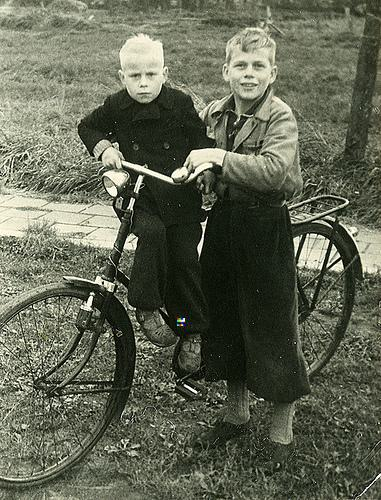car: (1, 156, 362, 489)
person: (183, 28, 312, 475), (78, 34, 216, 376)
